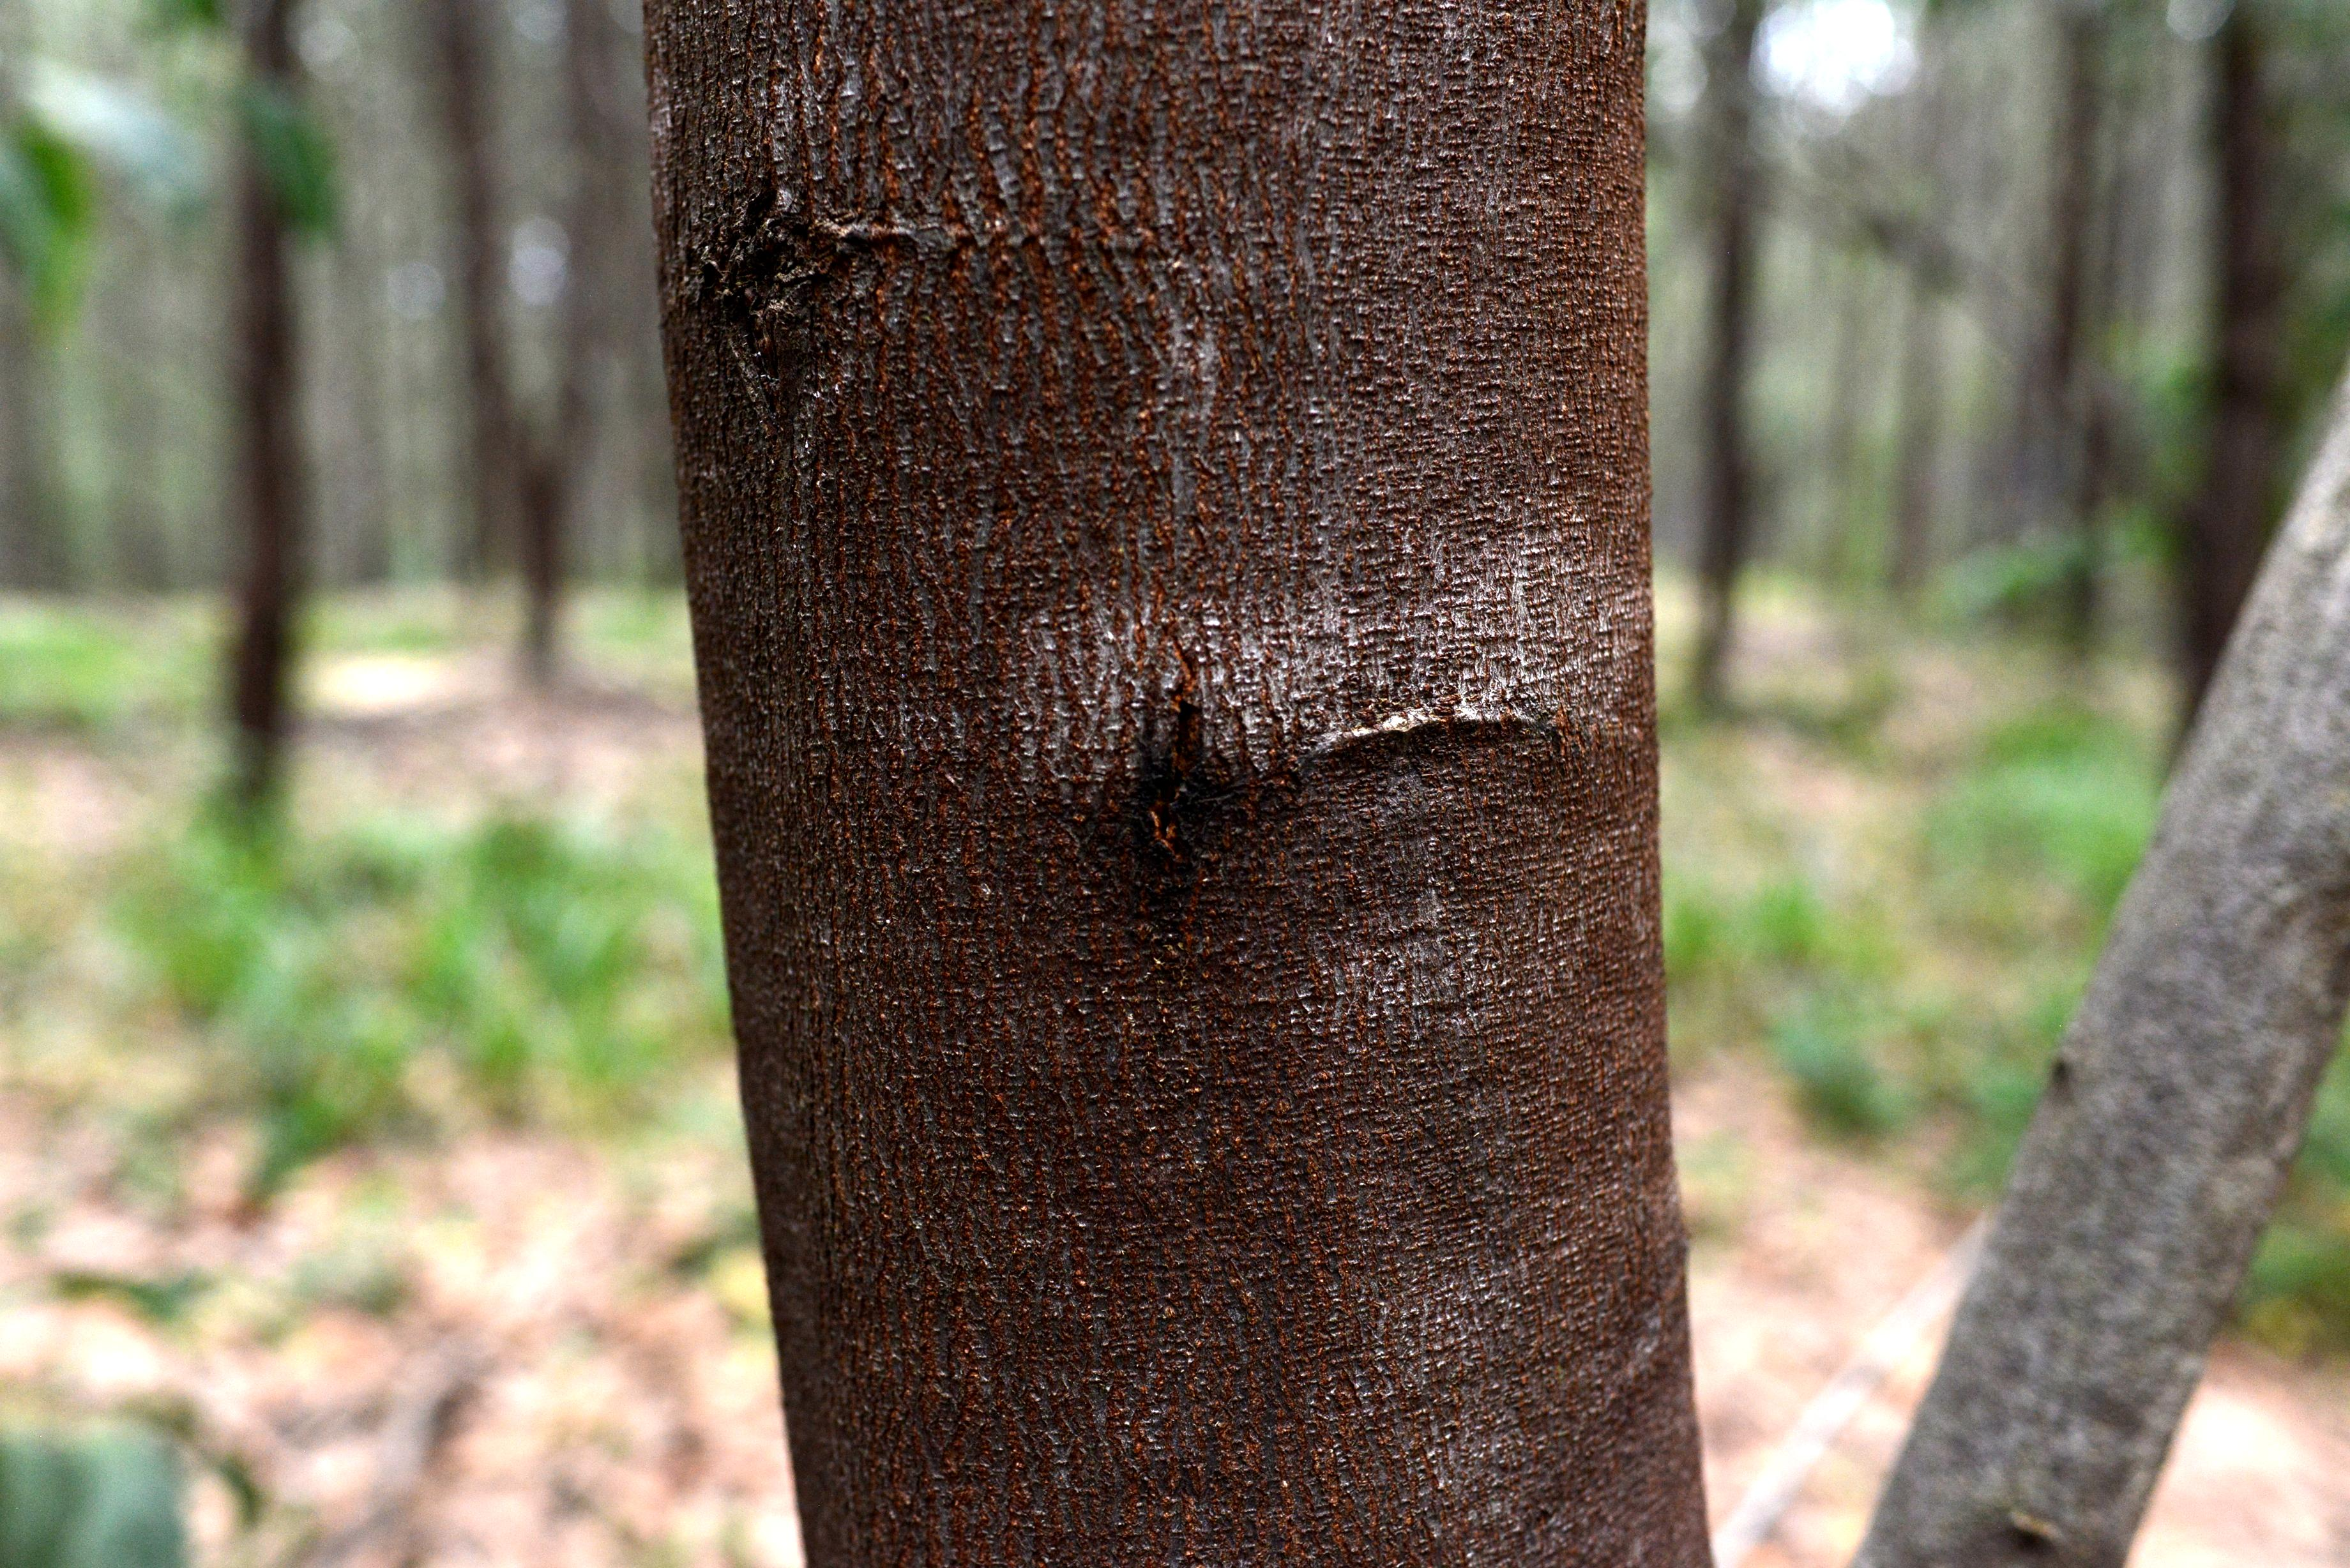Stem Borer: (696, 131, 878, 478), (1087, 665, 1274, 990)
